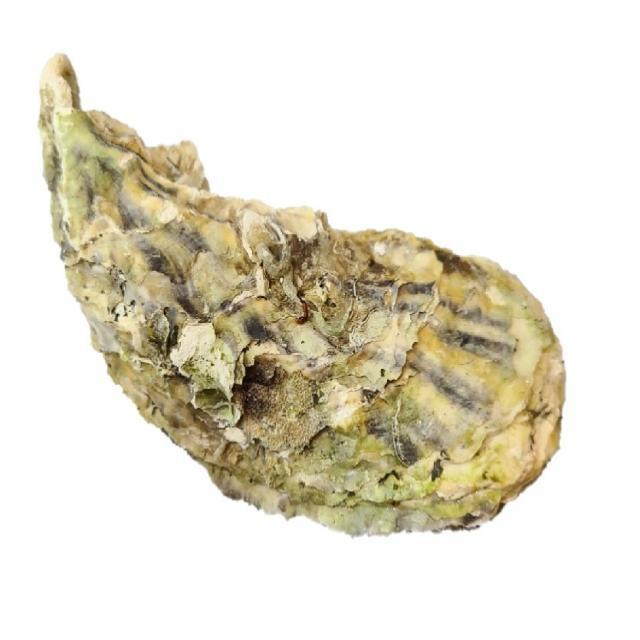Oyster- Indeterminate: (36, 53, 567, 540)
